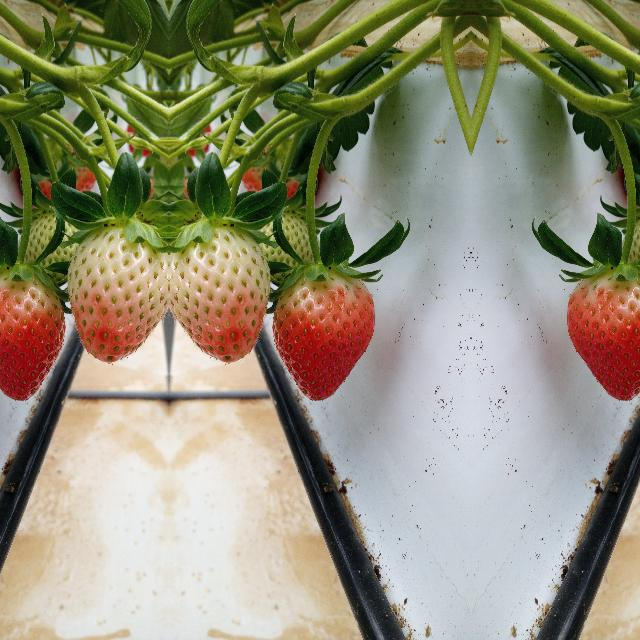Health_100: (270, 266, 376, 402), (565, 265, 640, 402), (0, 265, 65, 402)
Health_50: (172, 205, 268, 373), (68, 205, 164, 373)
